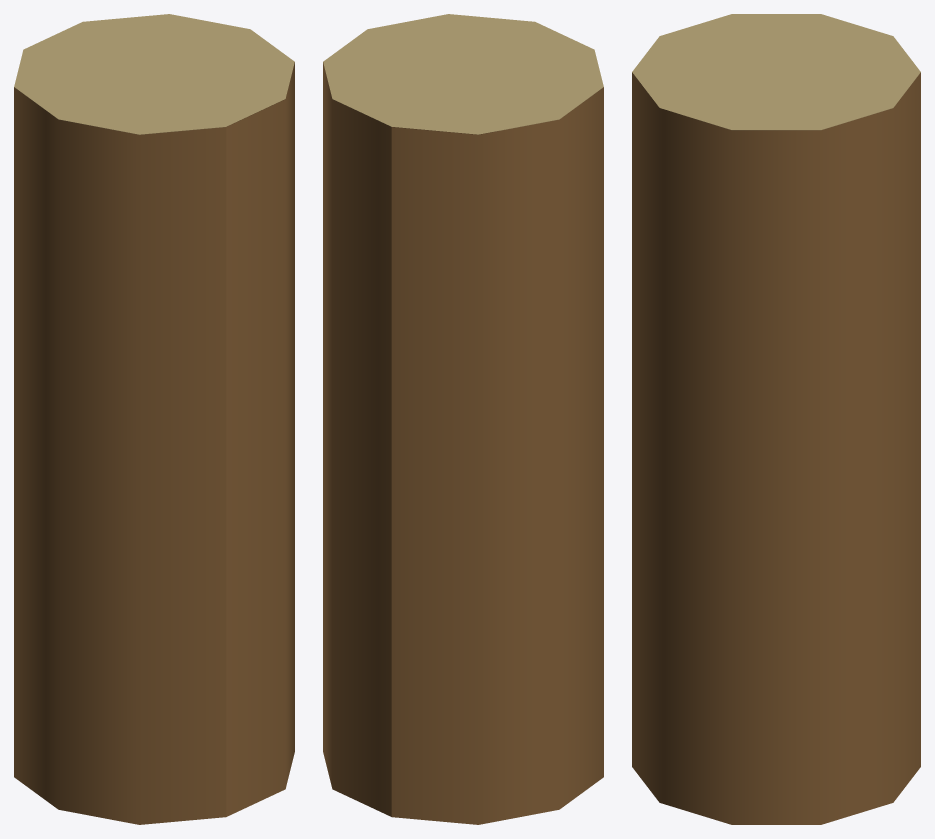
The model's file is firewood.glb.
3 renders of one model, left to right at view 1: azimuth 30°, elevation 25°; view 2: azimuth 150°, elevation 25°; view 3: azimuth 270°, elevation 25°, orthographic.
Visible parts, largest first — view 1: L, R; view 2: L, R; view 3: R, L.
Boxes of the visible parts, x1,y1,x2,y2 form: L: [14, 22, 226, 824]; R: [83, 14, 294, 816]; L: [391, 22, 603, 824]; R: [323, 14, 534, 816]; R: [632, 72, 920, 824]; L: [632, 14, 920, 71].
Bounding box in the file's own units: 0.6814 × 1.9 × 0.7165.
Materials: 1 (1 with a texture image).
